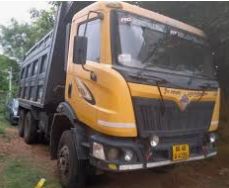truck: (16, 1, 220, 187)
